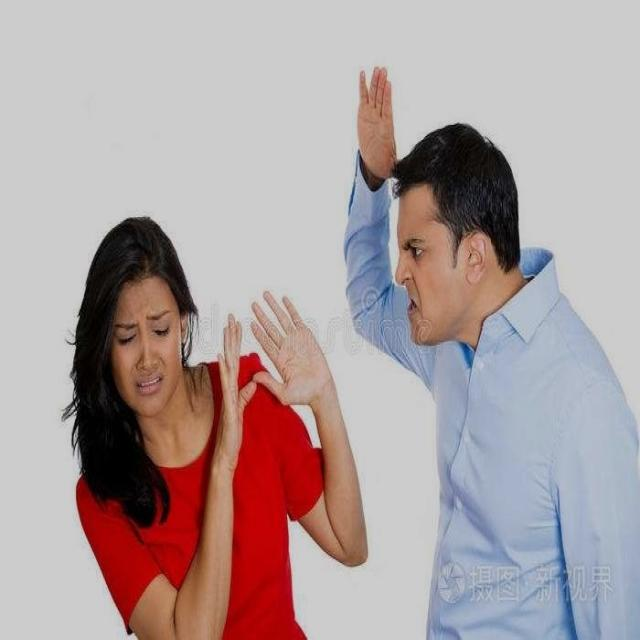fight: (68, 59, 631, 639)
